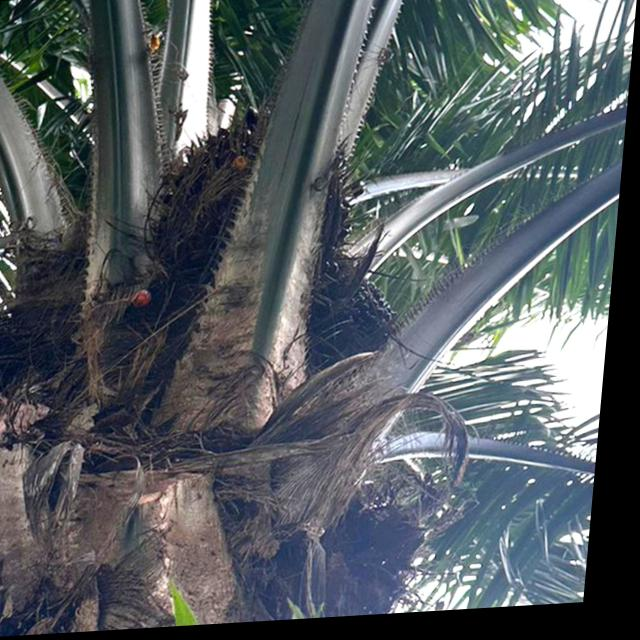unripe: (148, 95, 371, 328), (305, 276, 414, 381)
